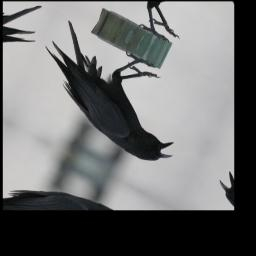Crow: (20, 15, 206, 173)
